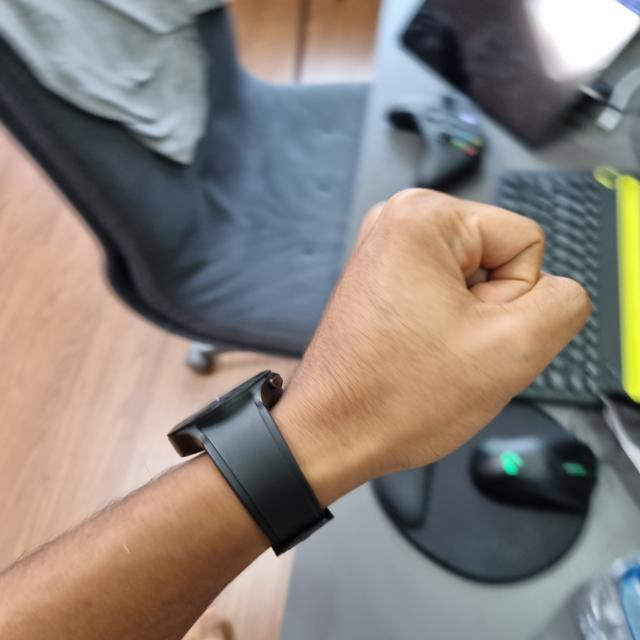Rock: (280, 189, 590, 487)
